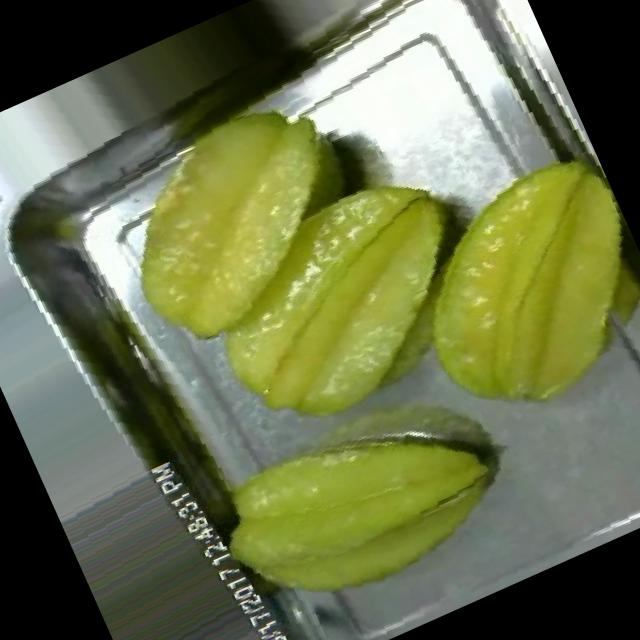fruit: (98, 71, 540, 492), (352, 126, 640, 466), (192, 363, 539, 640), (230, 0, 494, 104)
